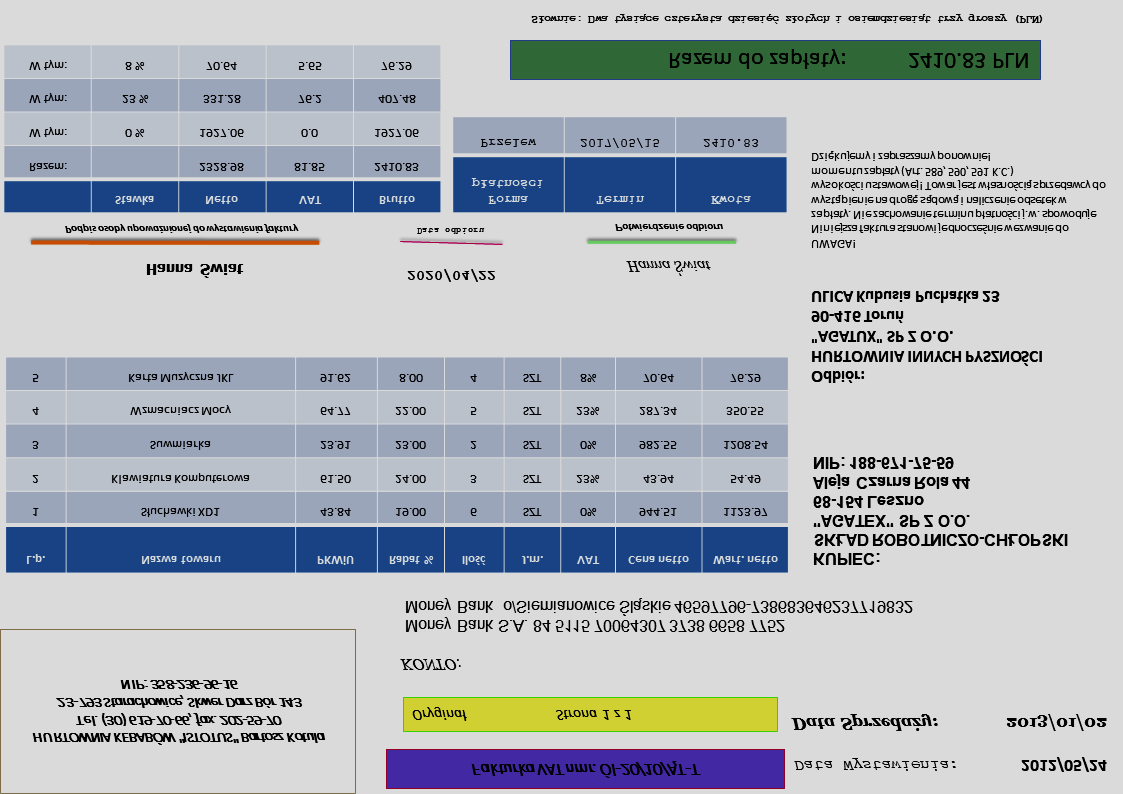Table: (4, 355, 791, 575), (1, 43, 444, 216), (451, 115, 787, 215)
TextBox: (807, 148, 1109, 254), (809, 453, 1070, 571), (808, 286, 1045, 388), (402, 596, 916, 640), (29, 675, 328, 747), (665, 47, 1032, 76), (529, 9, 1045, 29), (408, 703, 635, 726), (466, 760, 705, 780), (790, 709, 941, 735), (62, 222, 304, 238), (790, 755, 959, 774), (1005, 711, 1113, 734), (141, 260, 247, 281), (403, 264, 499, 287), (1017, 754, 1111, 776), (624, 257, 714, 278), (610, 220, 726, 235), (397, 655, 464, 677), (414, 225, 487, 239)
